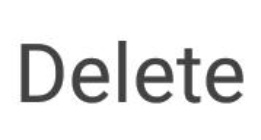TextView: (1, 1, 260, 139)
